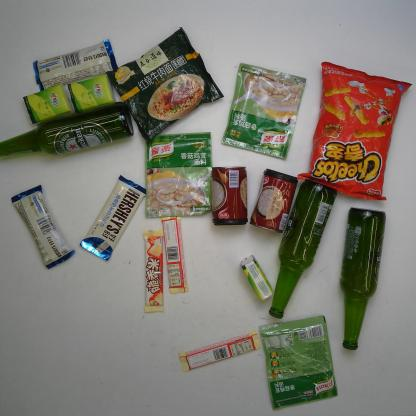Alcohol: (268, 178, 338, 319), (0, 100, 135, 160), (338, 206, 386, 351)
Canned Food: (249, 167, 299, 234), (210, 165, 249, 227)
Chocolate: (78, 174, 146, 262), (10, 184, 76, 270), (32, 39, 118, 91), (177, 327, 262, 374), (159, 214, 191, 296), (141, 230, 166, 314)
Instant Noodles: (106, 26, 225, 144)
Puffed Food: (297, 61, 414, 202)
Seasoner: (220, 62, 308, 160), (258, 314, 338, 411), (145, 131, 214, 219)
Tissue: (22, 82, 73, 125), (67, 73, 117, 113), (240, 254, 274, 302)
